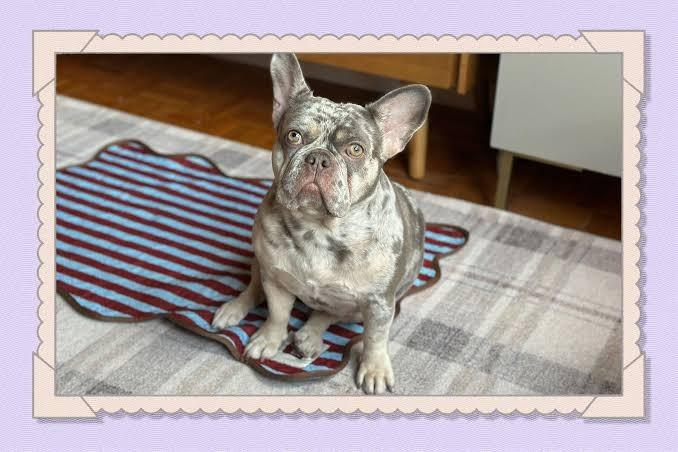adult_dog: (213, 49, 437, 399)
